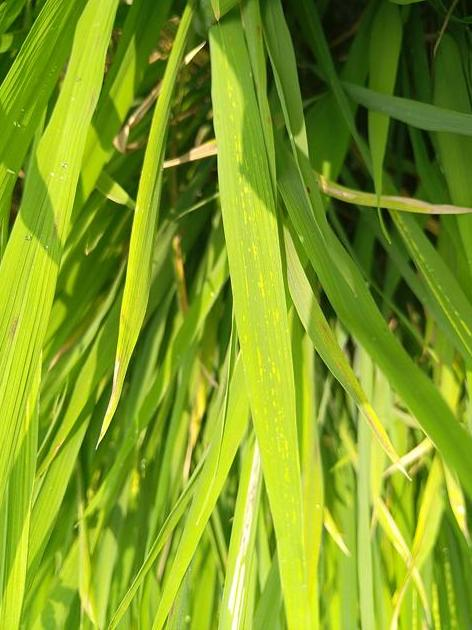Leaf Streak: (232, 139, 300, 506), (316, 174, 472, 213), (229, 442, 261, 630)
